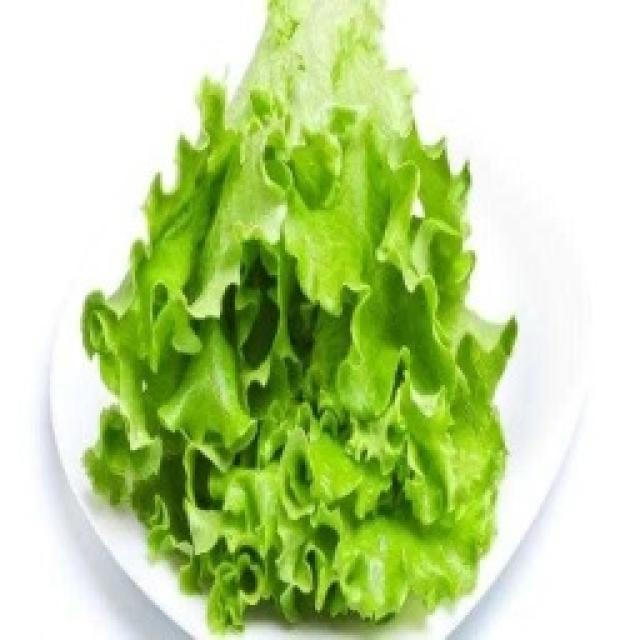Lettuce: (118, 99, 558, 597)
